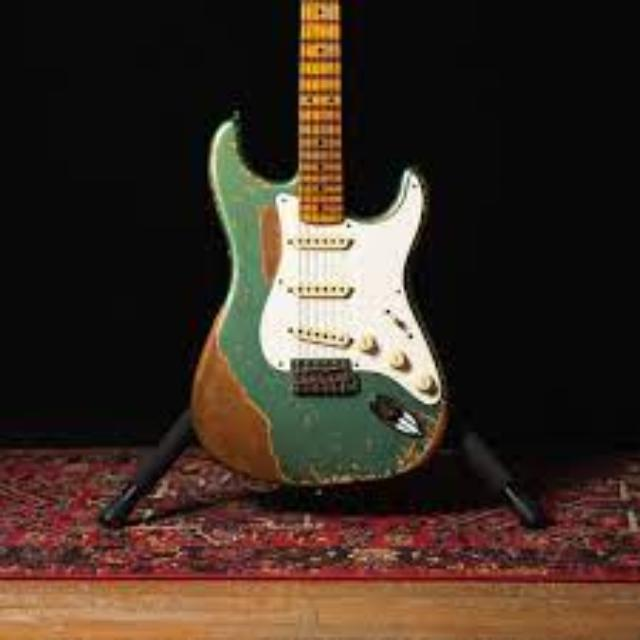Electric-Guitar: (190, 0, 444, 486)
